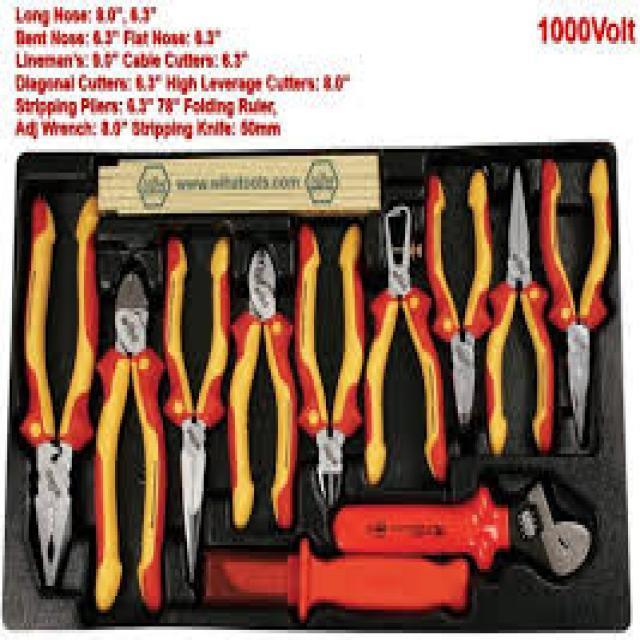pliers: (7, 178, 106, 590), (88, 256, 174, 619), (156, 232, 234, 594), (359, 201, 450, 494), (536, 148, 618, 448), (222, 242, 302, 548), (484, 160, 560, 466), (416, 166, 496, 448), (290, 219, 364, 512)
wrench: (330, 487, 612, 582)
